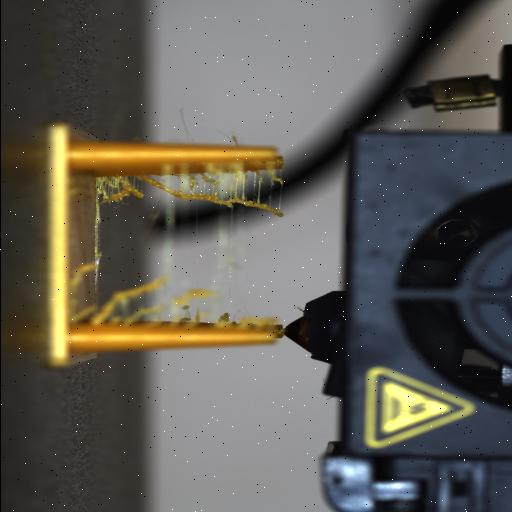stringing: (82, 168, 268, 328)
